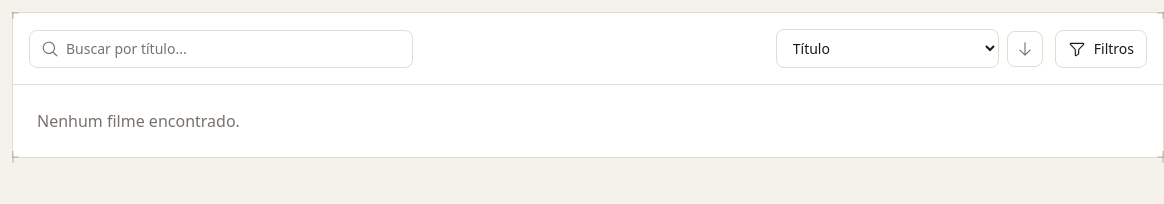
it: CatalogPage › URL sync › writes the debounced search into the URL, so a refresh would keep it
This screenshot has width=1164, height=204.
Expected: the text "Nenhum filme encontrado." is shown, top-left (37, 110), bottom-right (240, 132)
In the search field labelled "Buscar por título": (221, 48) top-left (29, 30), bottom-right (413, 68), type "duna"
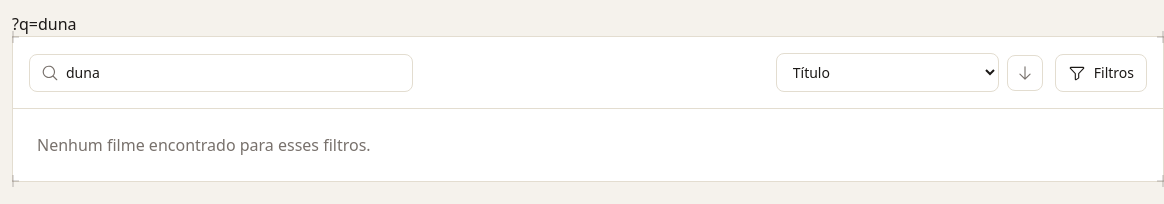
Expected: the text with test id "location-search" shows "q=duna", top-left (12, 13), bottom-right (76, 35)
